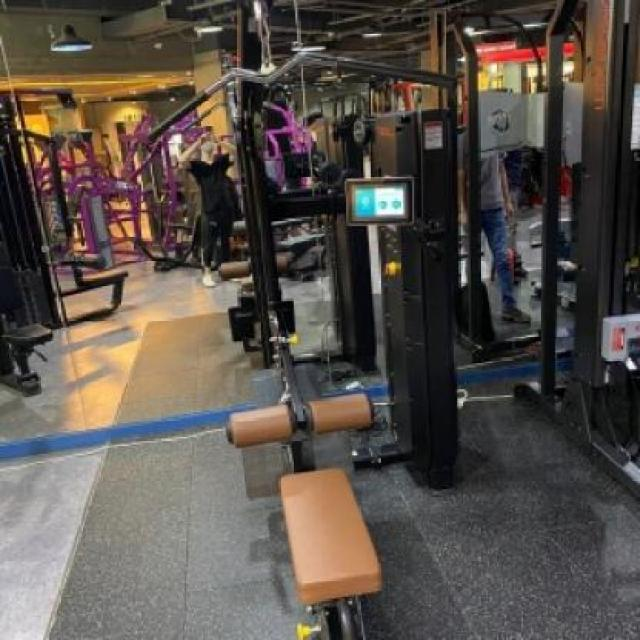Lat Pull Down: (128, 3, 484, 640)
